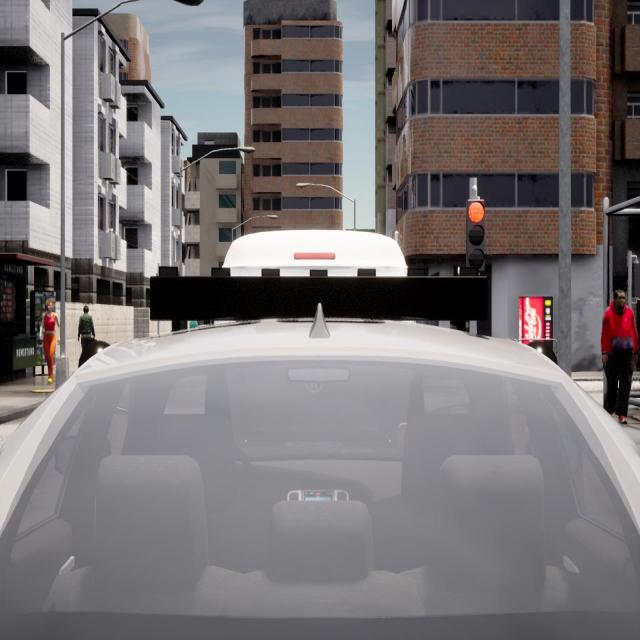Pedestrian: (601, 290, 638, 423), (38, 299, 60, 383), (77, 302, 95, 346)
Vehicle: (0, 318, 640, 636), (225, 232, 405, 284)
traffic_light: (466, 200, 485, 270), (632, 262, 640, 297)
